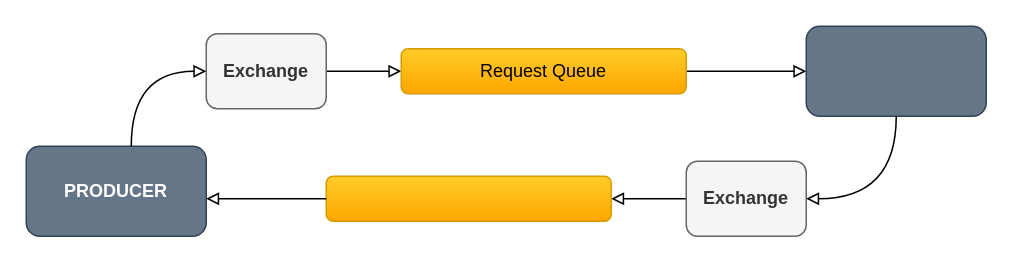
Image size: 1013x263. Some labels were removed from this diagram. Here are the shapes that lost their labels. From the top down, the centre of each, then its label:
[895,70]: CONSUMER
[468,198]: Response Queue
